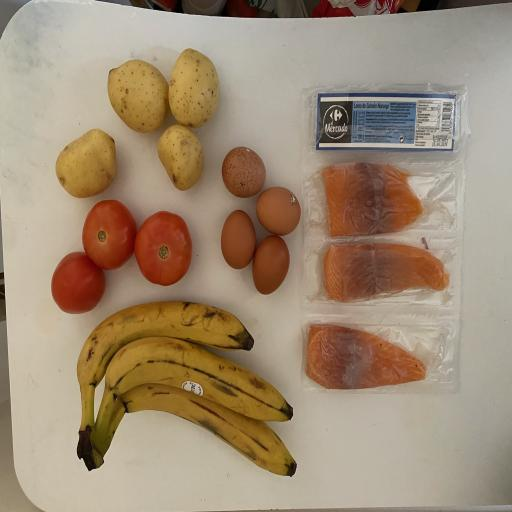banana: (75, 296, 256, 454), (90, 334, 296, 465), (96, 380, 300, 485)
egg: (253, 181, 305, 238), (220, 142, 268, 202), (251, 233, 293, 297), (220, 208, 257, 271)
potato: (105, 56, 171, 136), (52, 127, 119, 202), (166, 44, 222, 128), (155, 122, 207, 194)
salmon: (302, 319, 429, 395), (321, 238, 454, 307), (318, 158, 424, 240)
tomato: (132, 209, 195, 288), (81, 197, 140, 273), (49, 247, 107, 317)
